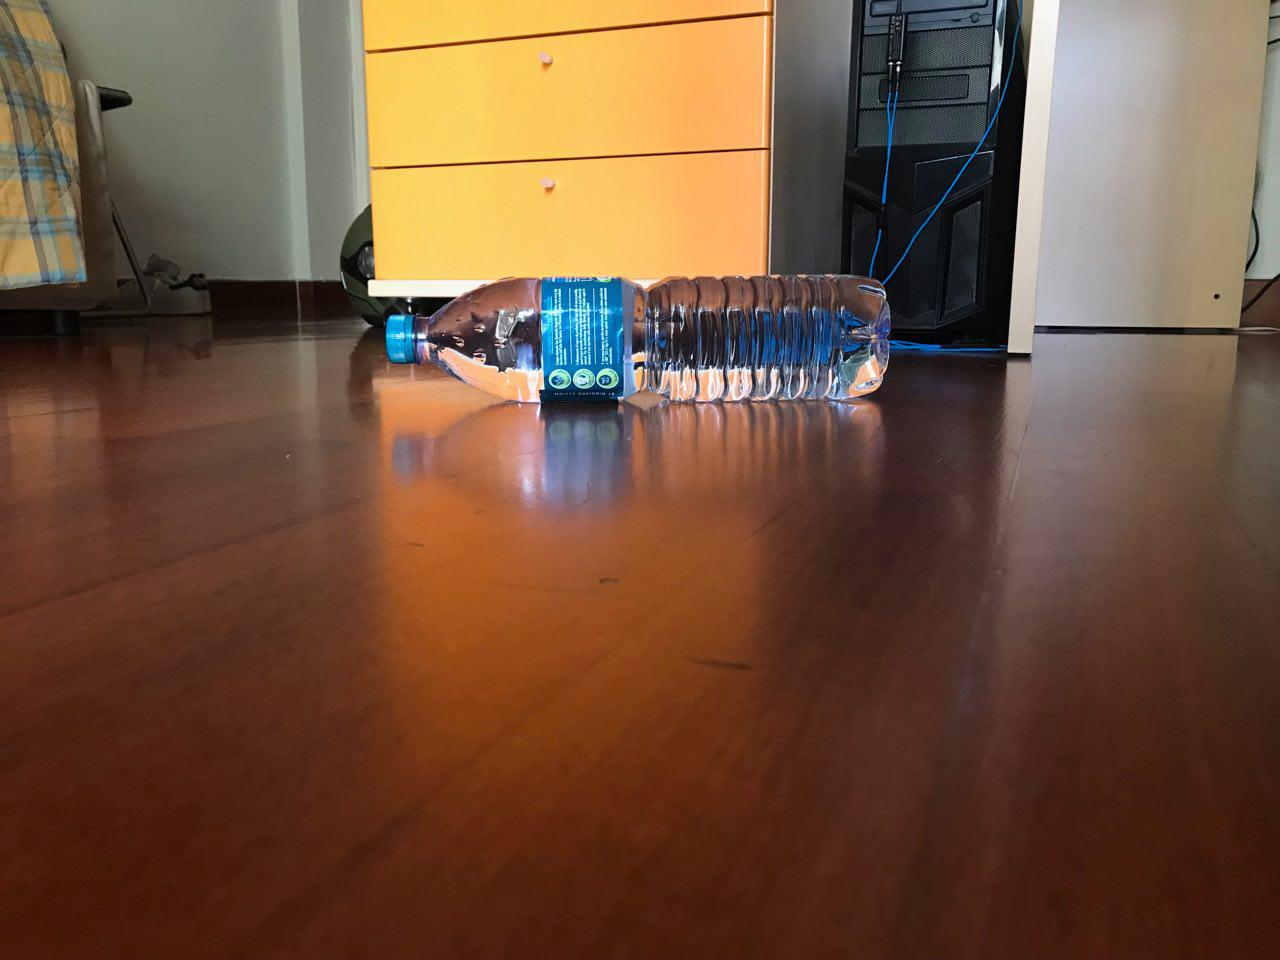san_bernardo: (383, 274, 890, 405)
